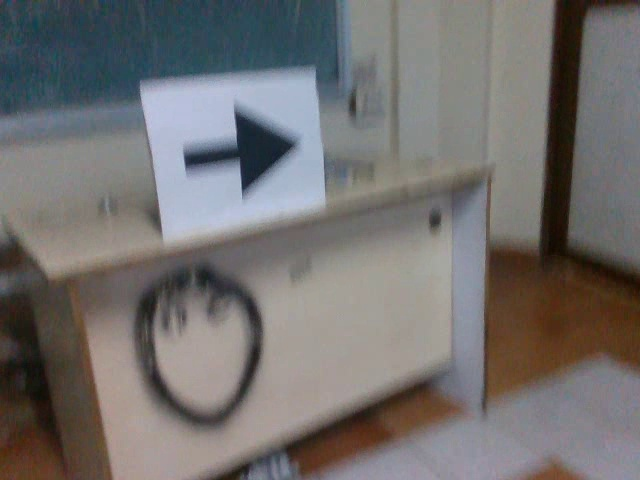Right: (168, 95, 302, 206)
